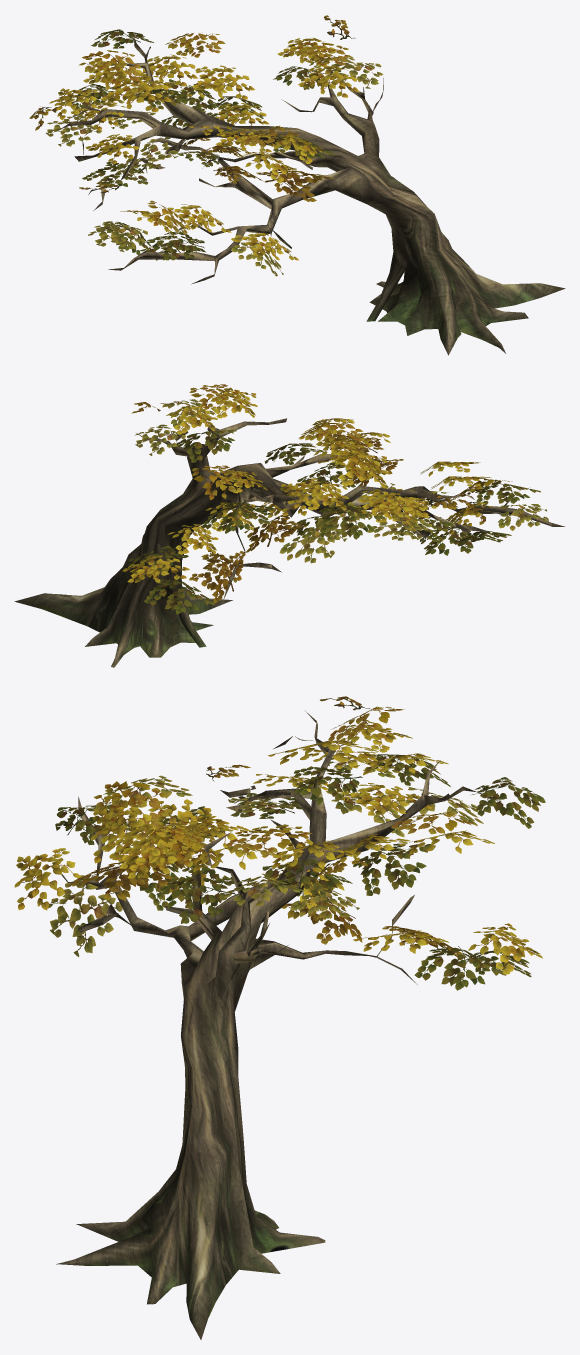
File: Tree_06.FBX
The picture shows the model from 3 angles, top to bottom: view 1: azimuth 30°, elevation 25°; view 2: azimuth 150°, elevation 25°; view 3: azimuth 270°, elevation 25°; orthographic projection. The views are drawn at different scales.
Visible parts, largest first — view 1: Tree_06; view 2: Tree_06; view 3: Tree_06.
Boxes of the visible parts, x1=… form: Tree_06: x1=29, y1=15, x2=565, y2=355; Tree_06: x1=14, y1=384, x2=565, y2=667; Tree_06: x1=14, y1=696, x2=545, y2=1339.
Size of the model in its own units: 8.59 by 4.64 by 6.14.
